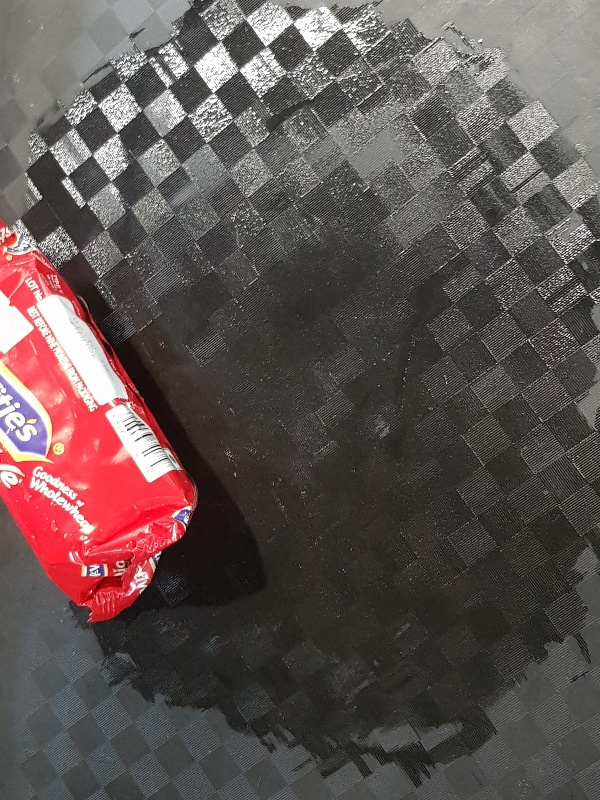Mcvitie's Digestive: (1, 209, 202, 624)
